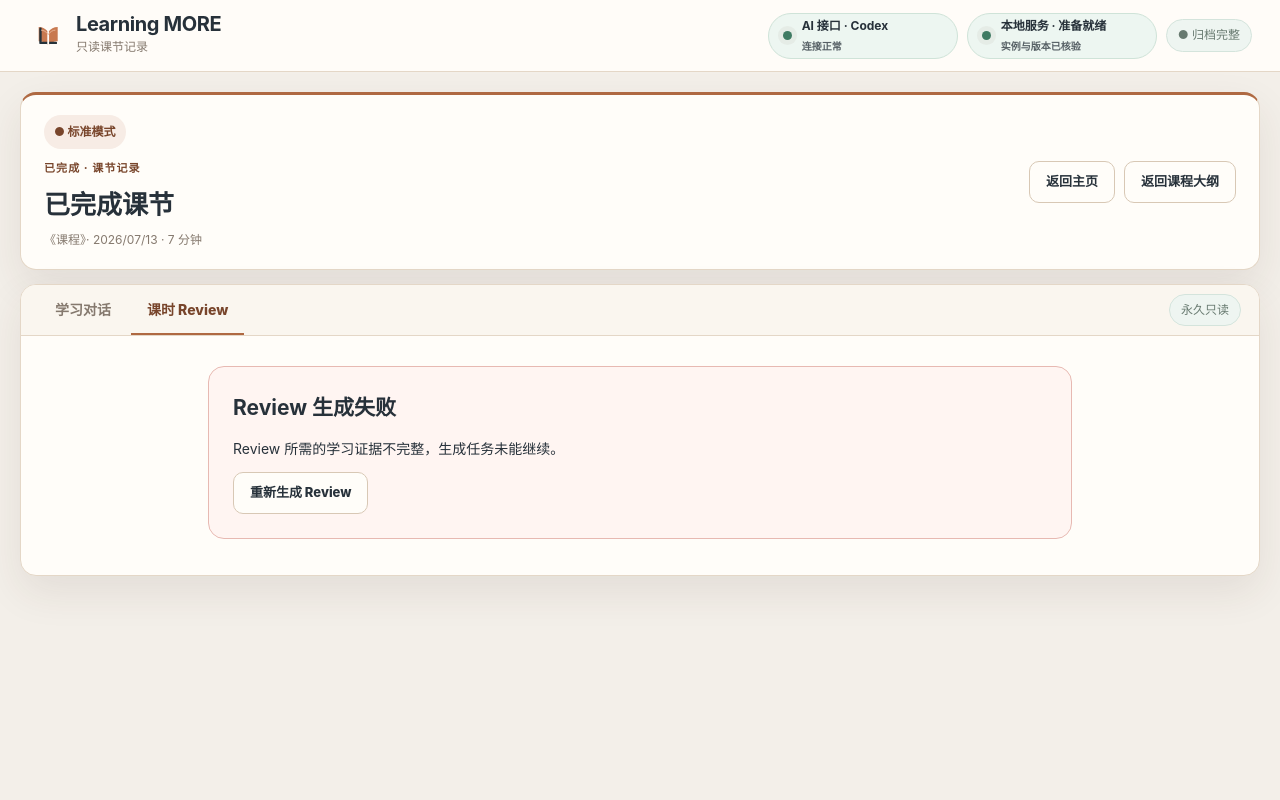
Test case: lesson record route › shows the final Review failure reason and retries the authoritative closure
Expected: the heading "Review 生成失败" is shown, [233, 390, 396, 425]
Expected: the text "Review 所需的学习证据不完整，生成任务未能继续。" is shown, [233, 437, 564, 460]
Click the button "重新生成 Review" at (301, 493), box [233, 472, 368, 514]
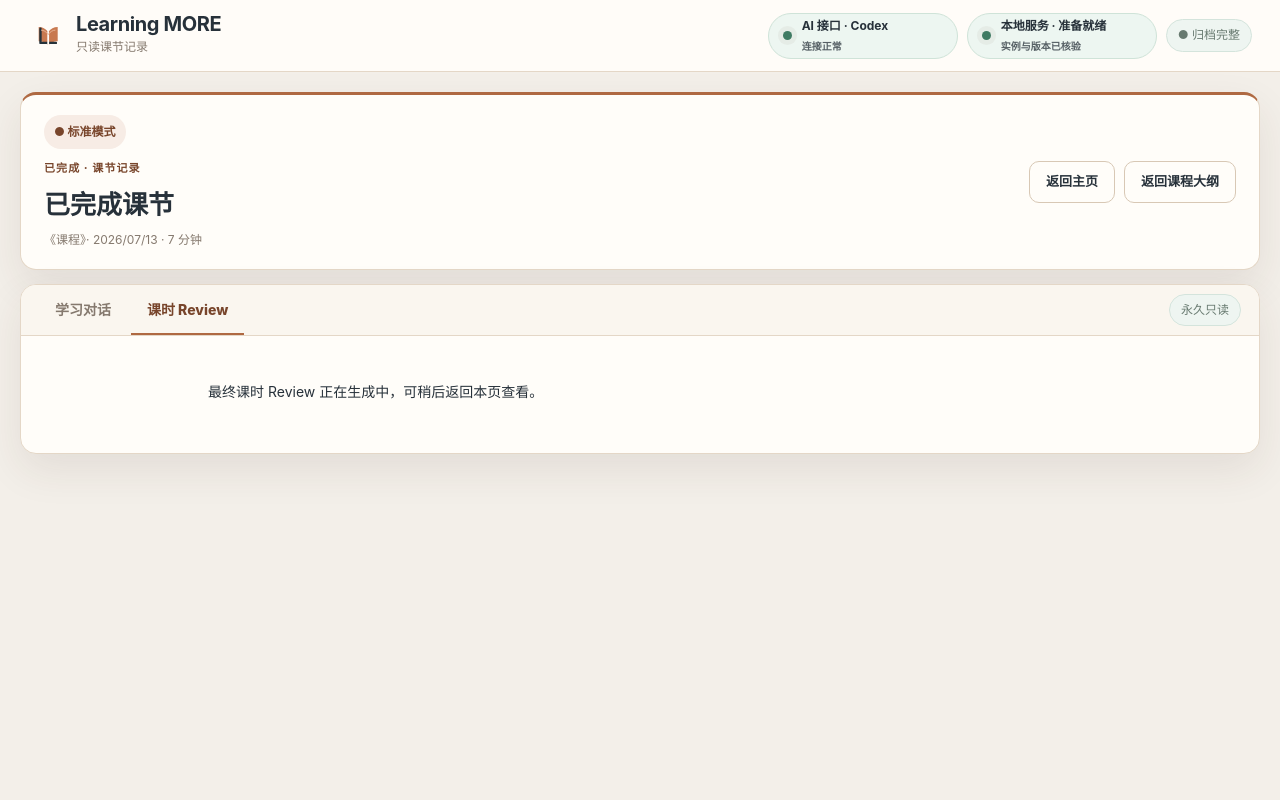
Now the text "最终课时 Review 正在生成中，可稍后返回本页查看。" is shown, box [208, 382, 543, 400]
